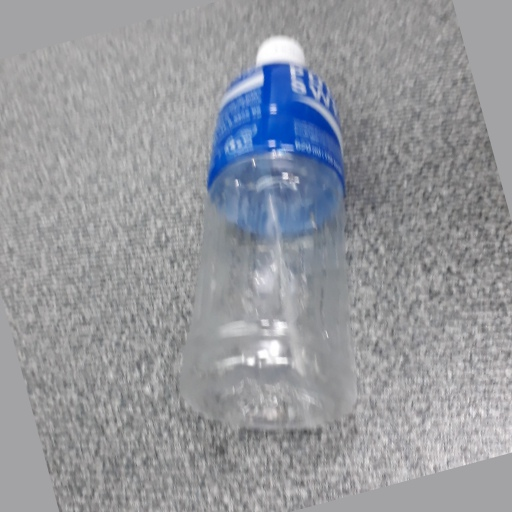Plastic_0: (187, 32, 361, 433)
